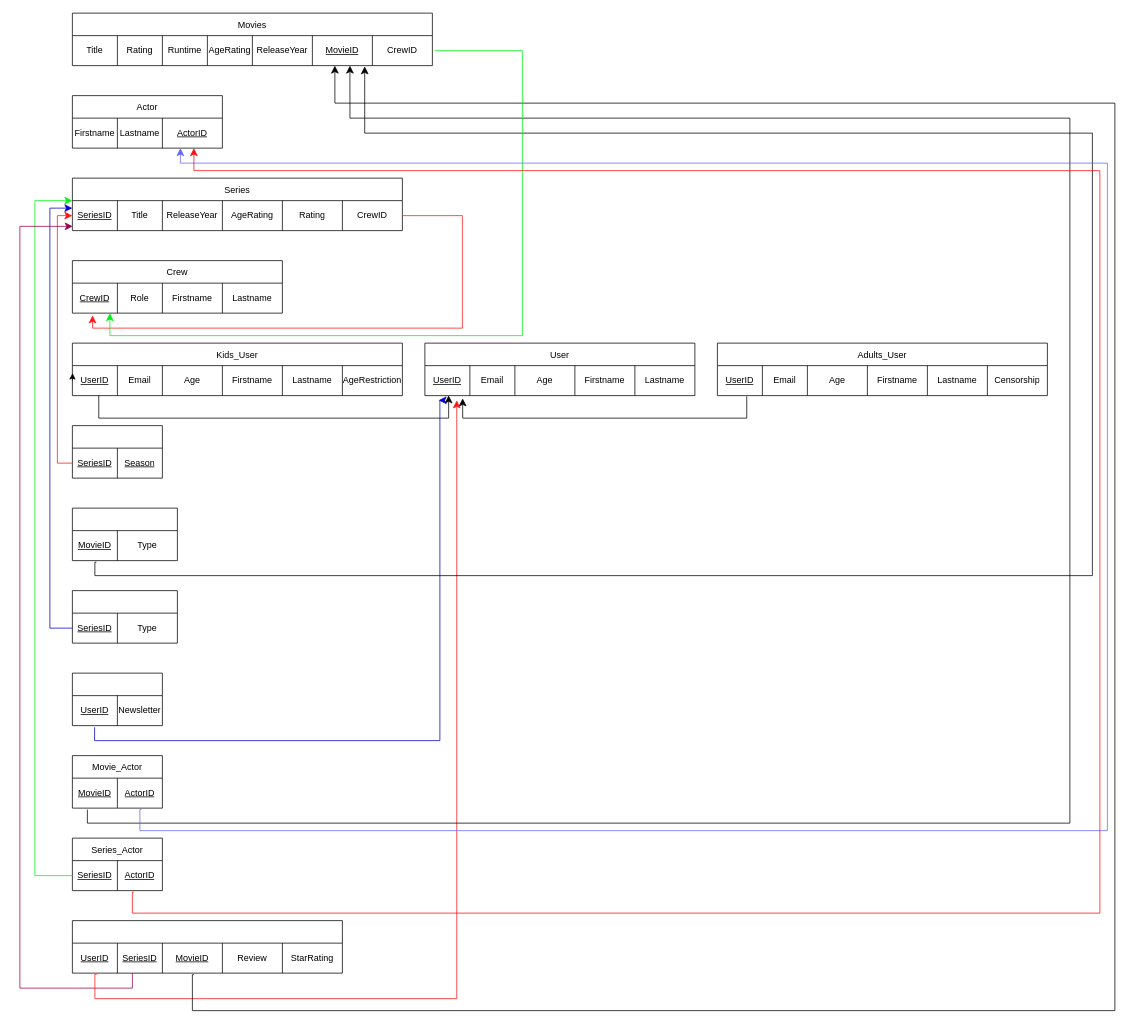
This 1136x1031 diagram has some shape labels left out. The box of each missing label's shape, as (x1, y1, x2, y2) in pixels:
MovieGenre: (72, 507, 177, 561)
Series_Season: (72, 425, 162, 478)
SeriesGenre: (72, 590, 177, 643)
Subscrption: (72, 672, 162, 726)
User_Watches: (72, 920, 342, 973)
